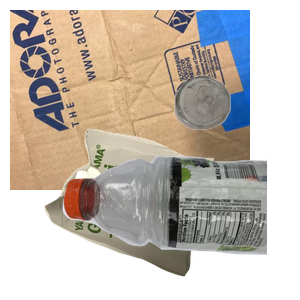cardboard: (10, 10, 250, 190)
glass: (172, 73, 300, 195)
plastic: (60, 152, 300, 300)
trash: (42, 126, 249, 300)
